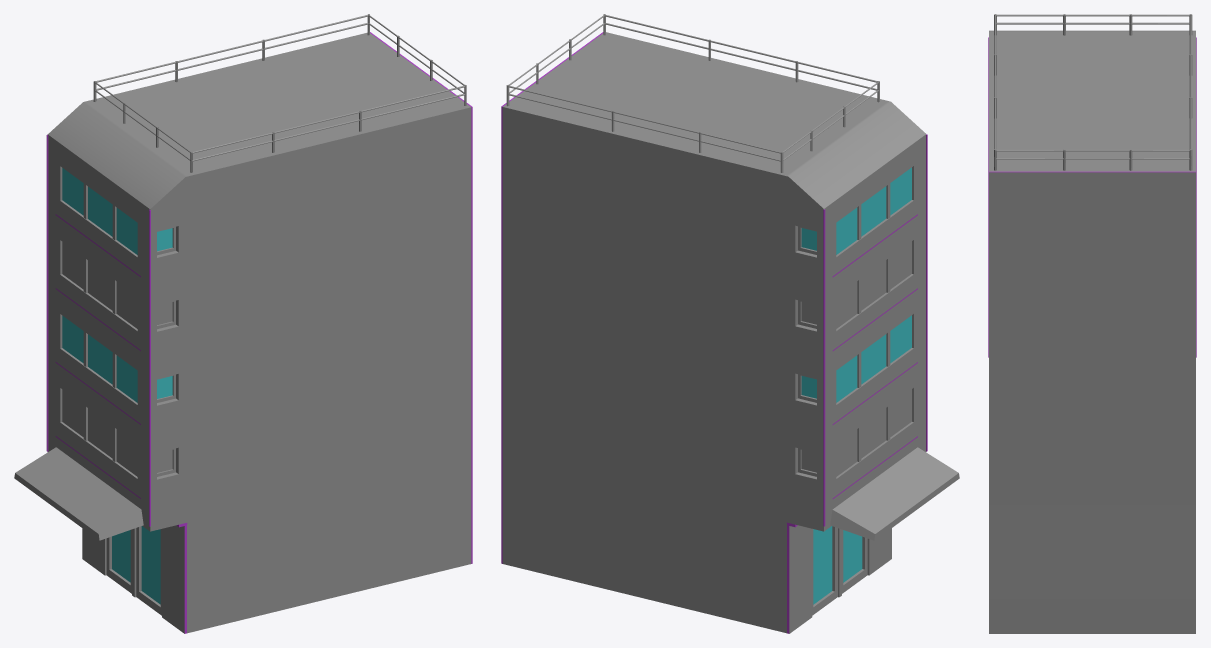
Rendered from BuildingS_05_var2.fbx.
The picture shows the model from 3 angles, left to right: view 1: azimuth 30°, elevation 25°; view 2: azimuth 150°, elevation 25°; view 3: azimuth 270°, elevation 25°; orthographic projection.
Parts seen in each view (by area): view 1: BuildingS_05_var2; view 2: BuildingS_05_var2; view 3: BuildingS_05_var2.
Boxes of the visible parts, x1,y1,x2,y2 form: BuildingS_05_var2: [14, 14, 472, 633]; BuildingS_05_var2: [501, 14, 959, 633]; BuildingS_05_var2: [988, 14, 1196, 633].
Size of the model in its own units: 0.3071 by 0.3841 by 0.1504.
